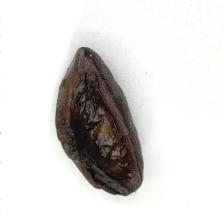NG: (65, 56, 135, 191)
